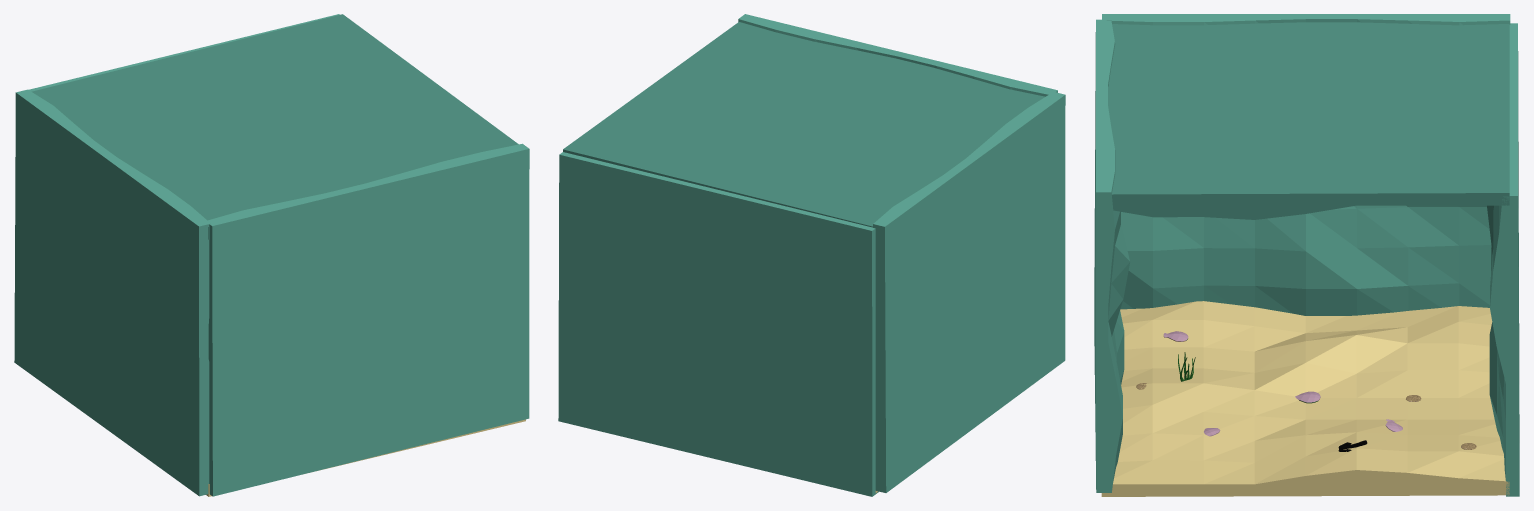
The model's file is world.obj.
The picture shows the model from 3 angles, left to right: view 1: azimuth 30°, elevation 25°; view 2: azimuth 150°, elevation 25°; view 3: azimuth 270°, elevation 25°; orthographic projection. The views are drawn at different scales.
Visible parts, largest first — view 1: Seaweed_SeaweedMesh.002; view 2: Seaweed_SeaweedMesh.002; view 3: Seaweed_SeaweedMesh.002.
Boxes of the visible parts, x1,y1,x2,y2 form: Seaweed_SeaweedMesh.002: (14,14,529,496); Seaweed_SeaweedMesh.002: (558,14,1065,496); Seaweed_SeaweedMesh.002: (1094,14,1519,496).
Bounding box in the file's own units: 13.63 × 10.85 × 13.7.
